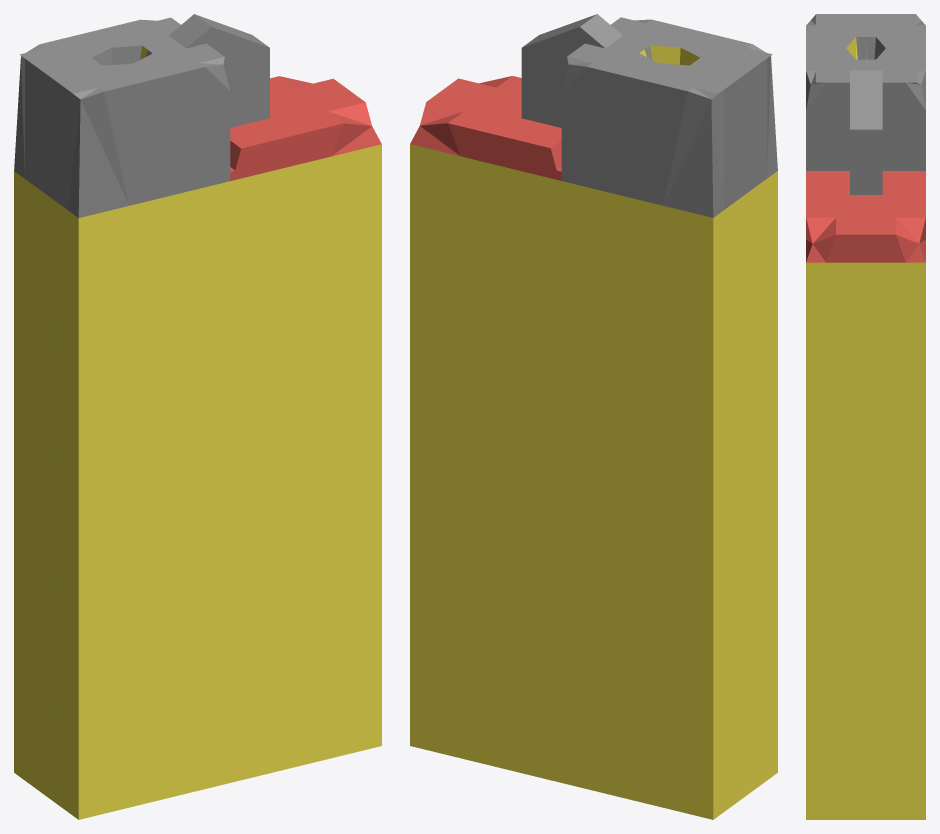
Rendered from lighter.dae.
3 renders of one model, left to right at view 1: azimuth 30°, elevation 25°; view 2: azimuth 150°, elevation 25°; view 3: azimuth 270°, elevation 25°, orthographic. The views are drawn at different scales.
Visible parts, largest first — view 1: Cube, Circle; view 2: Cube, Circle; view 3: Cube, Circle.
Part boxes in pixels (bbox=[...]): Cube: bbox=[14, 17, 381, 819]; Circle: bbox=[169, 14, 269, 127]; Cube: bbox=[410, 17, 777, 819]; Circle: bbox=[521, 14, 622, 127]; Cube: bbox=[806, 14, 925, 819]; Circle: bbox=[850, 70, 882, 194].
Bounding box in the file's own units: 2 × 0.7381 × 4.65.
